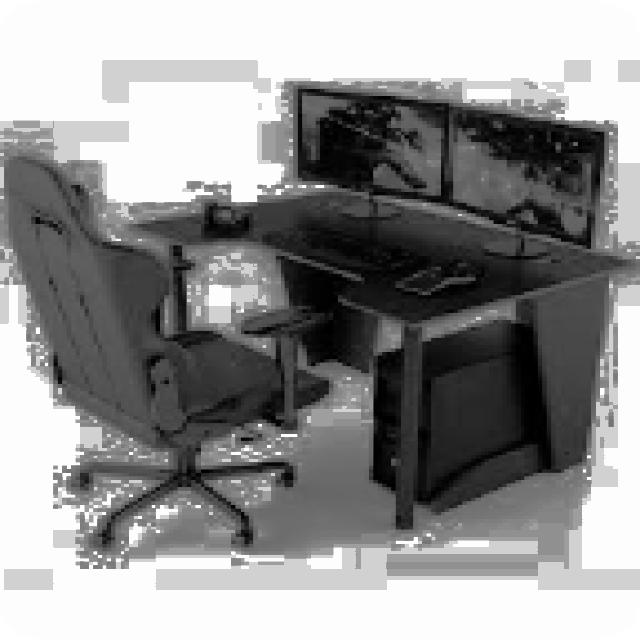book: (0, 153, 329, 551)
table: (124, 185, 636, 530)
